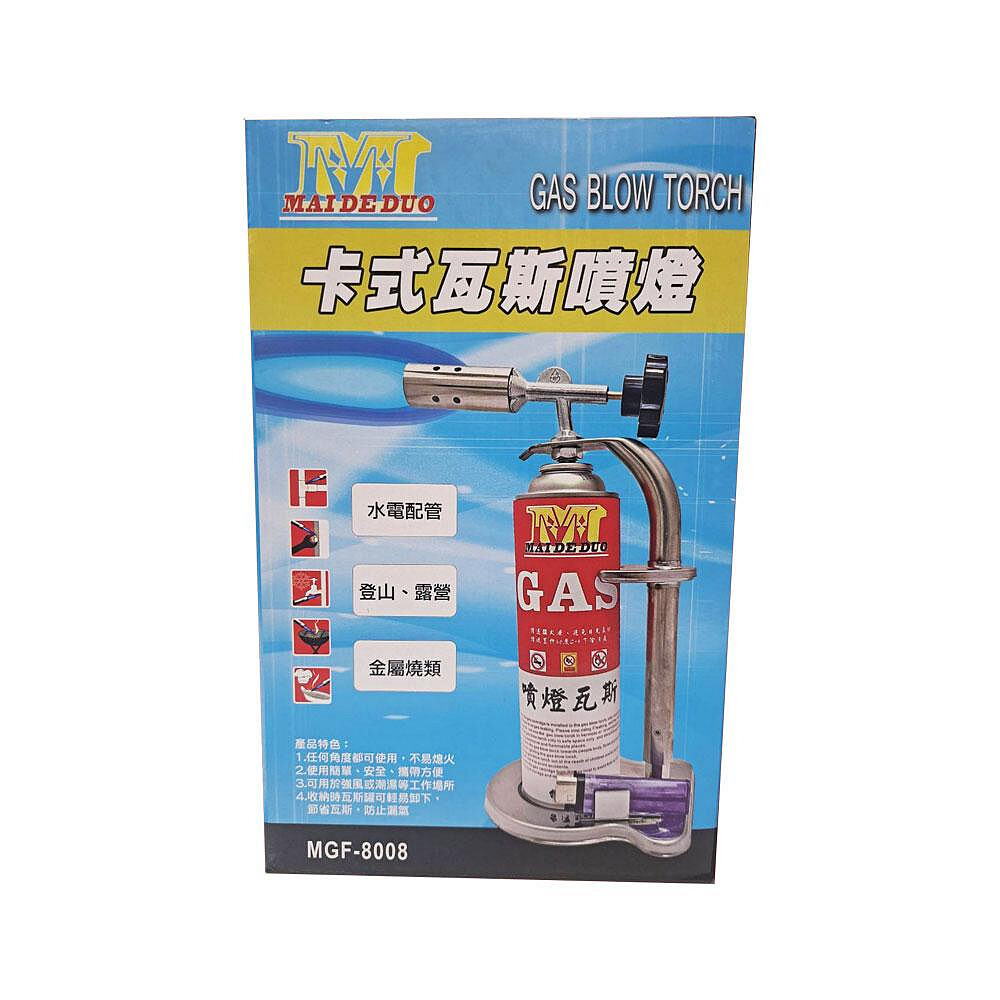gastorch: (399, 358, 707, 860)
